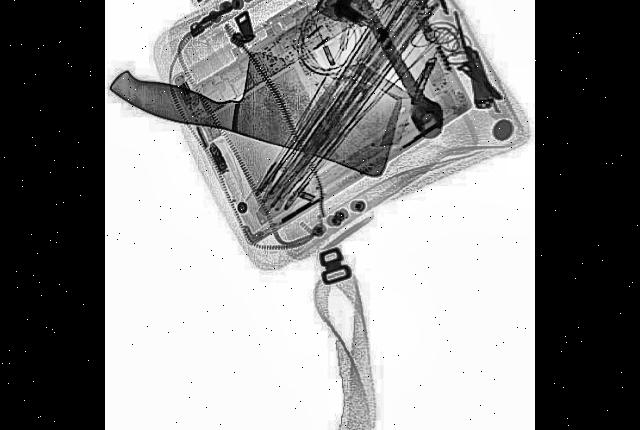Knife: (110, 4, 406, 180)
Wrench: (333, 0, 448, 147)
